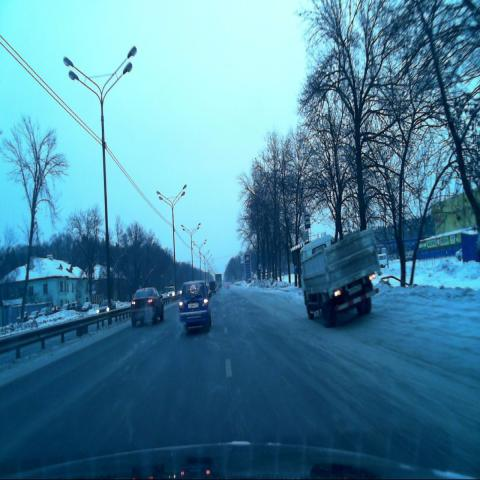5_16: (304, 214, 310, 228)
